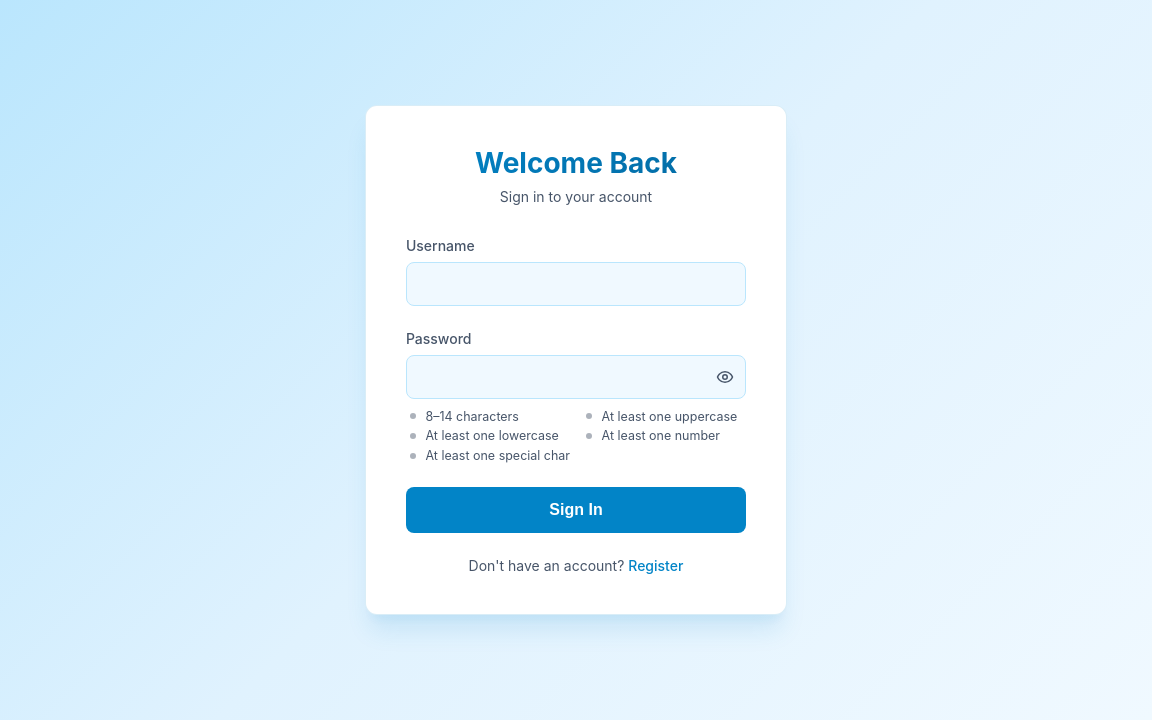
Scenario: Login page › shows server error message on failed login
The width and height of the screenshot is (1152, 720).
Step 1. Type "user" into the field labelled "Username" → (576, 284), box [406,262,746,306]
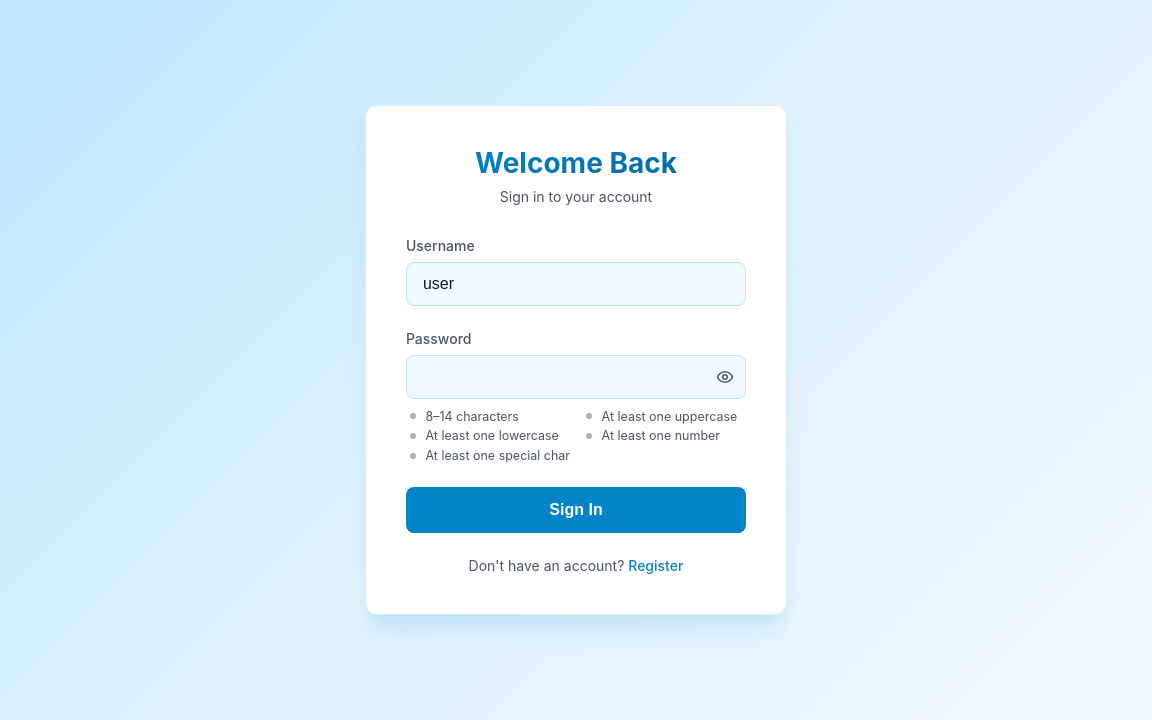
Step 2. Type "Test@123" into the password field labelled "Password" → (576, 377), box [406,355,746,399]
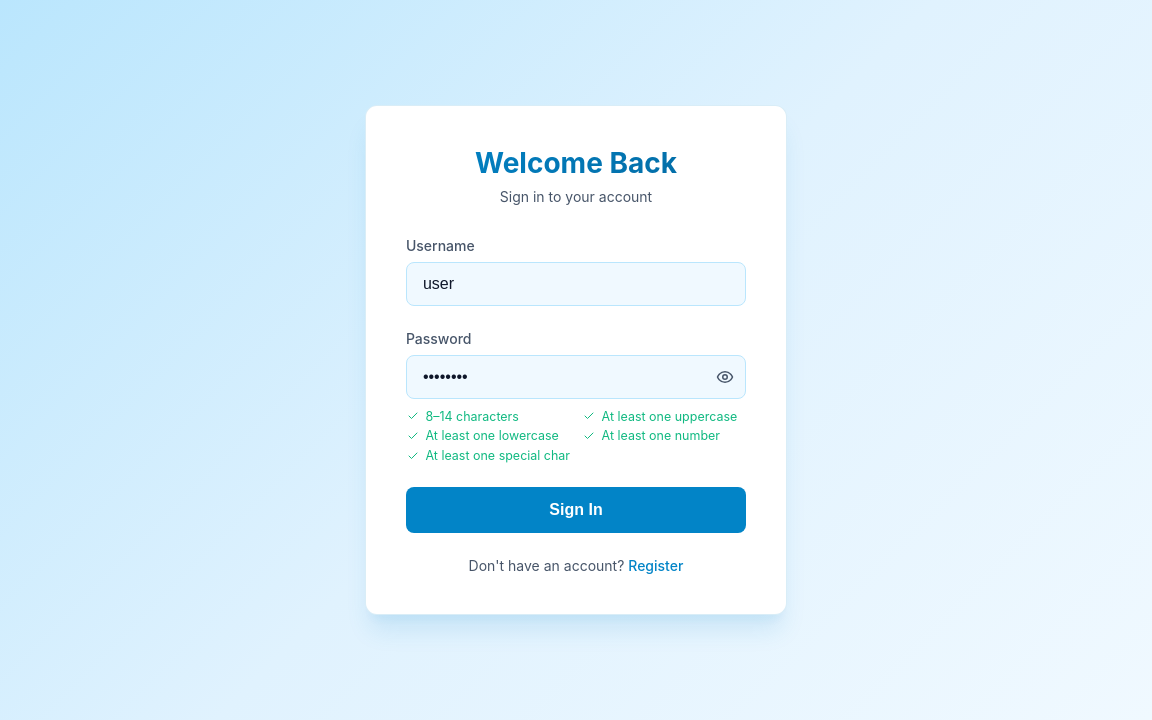
Step 3. Click the button "Sign In" → (576, 510), box [406,487,746,533]
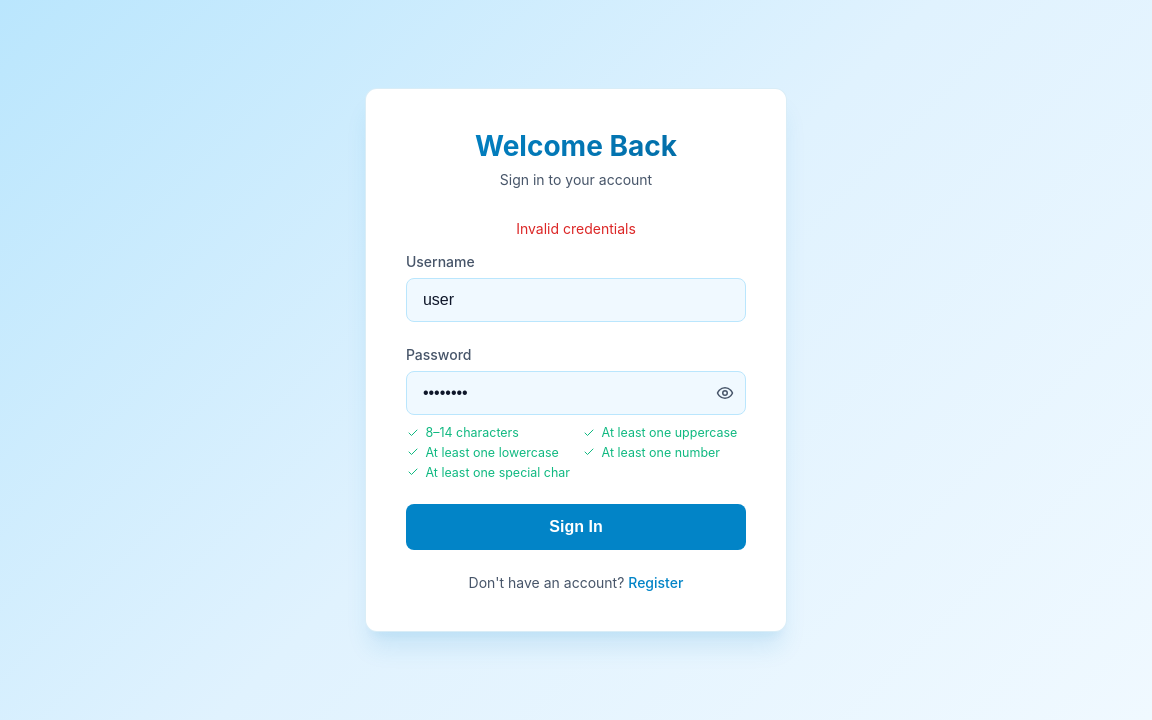
Expected: the text "Invalid credentials" is shown, [516,220,636,237]
